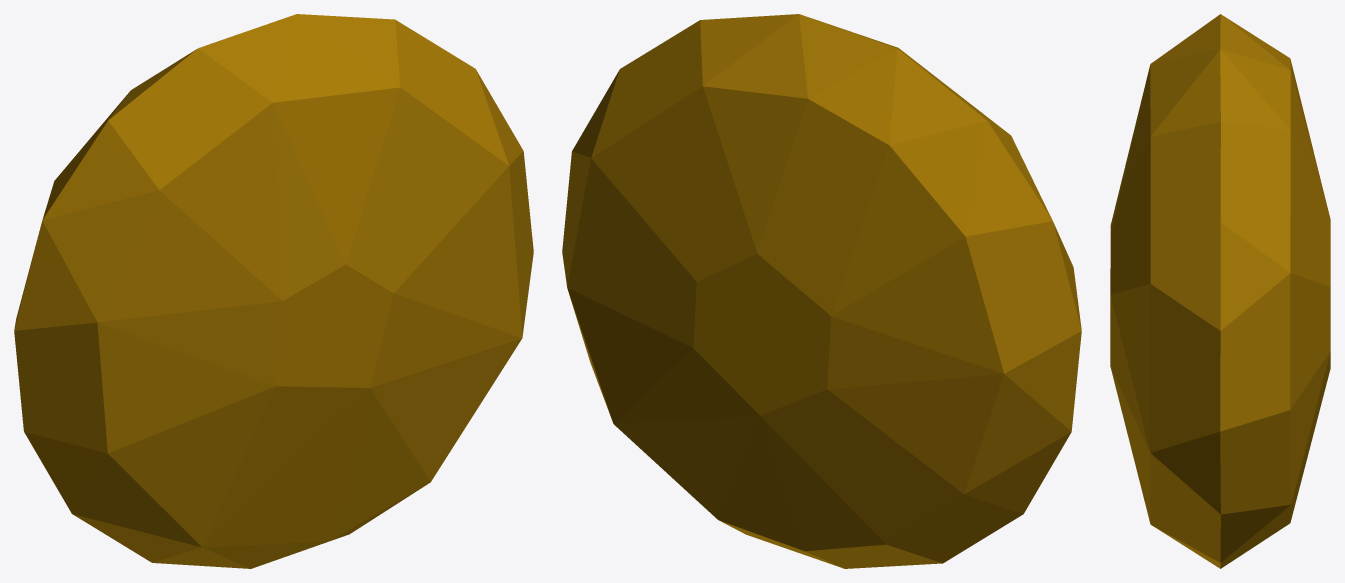
File: slightlyFlattenedDoughBallobj.obj
3 views of the same model, side by side, from view 1: azimuth 30°, elevation 25°; view 2: azimuth 150°, elevation 25°; view 3: azimuth 270°, elevation 25° (orthographic). The views are drawn at different scales.
Parts seen in each view (by area): view 1: Cylinder; view 2: Cylinder; view 3: Cylinder.
Part boxes in pixels (left/top/right/bottom): Cylinder: left=14, top=14, right=533, bottom=568; Cylinder: left=562, top=14, right=1081, bottom=568; Cylinder: left=1110, top=14, right=1330, bottom=568.
Bounding box in the file's own units: 0.0485 × 0.0485 × 0.0192.
